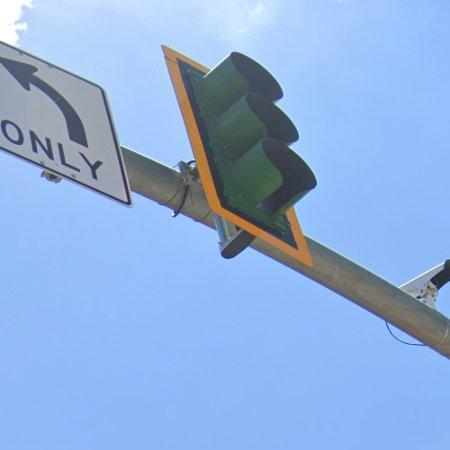traffic lights: (160, 44, 317, 269)
